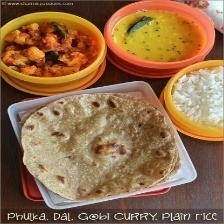dal: (110, 9, 209, 61)
